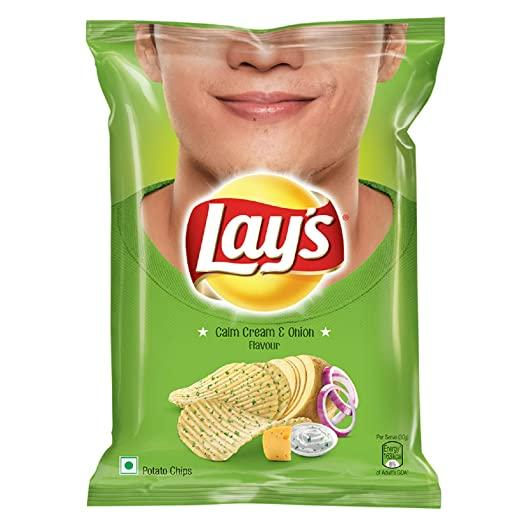Lays: (84, 14, 450, 512)
